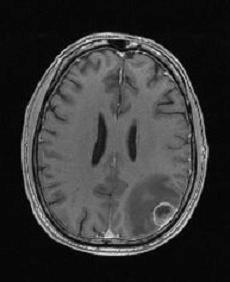Normal_Brain: (2, 1, 230, 282)
